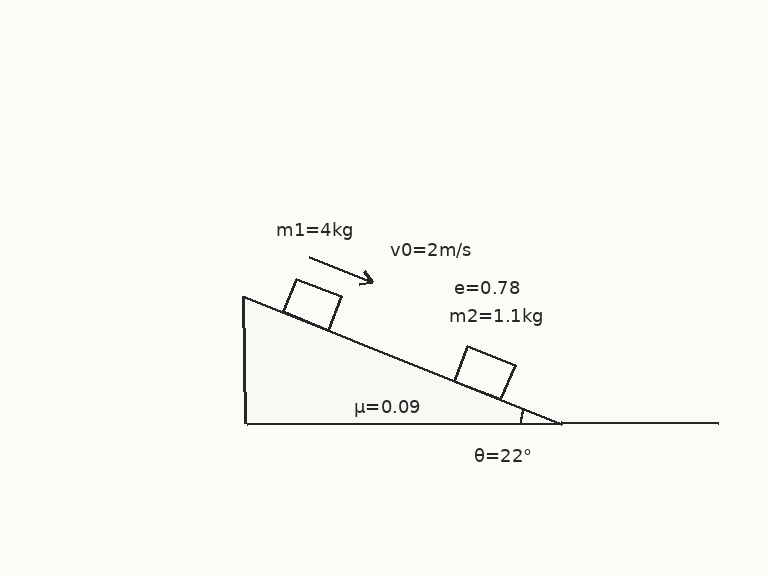block: (451, 344, 517, 402), (280, 276, 343, 332)
ramp: (244, 295, 563, 426)
